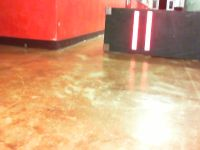switch: (144, 11, 153, 51), (131, 11, 139, 51)
